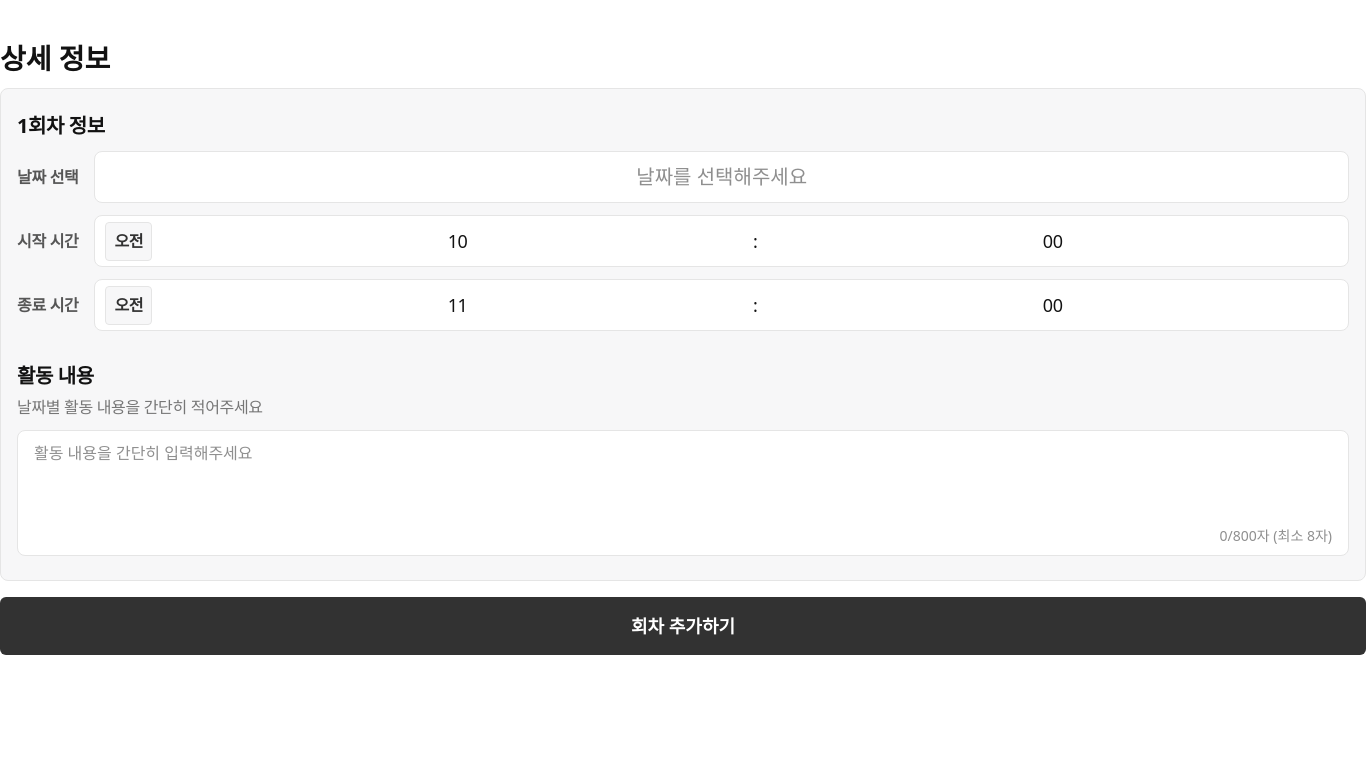
it: DetailInfo 통합 테스트 › 회차 정보 표시 › 세션별로 회차 정보가 올바르게 표시되어야 한다
Click the button with aria-label "회차 추가하기 버튼".
click(683, 626)  # box [0,597,1365,655]
(page scrolled)
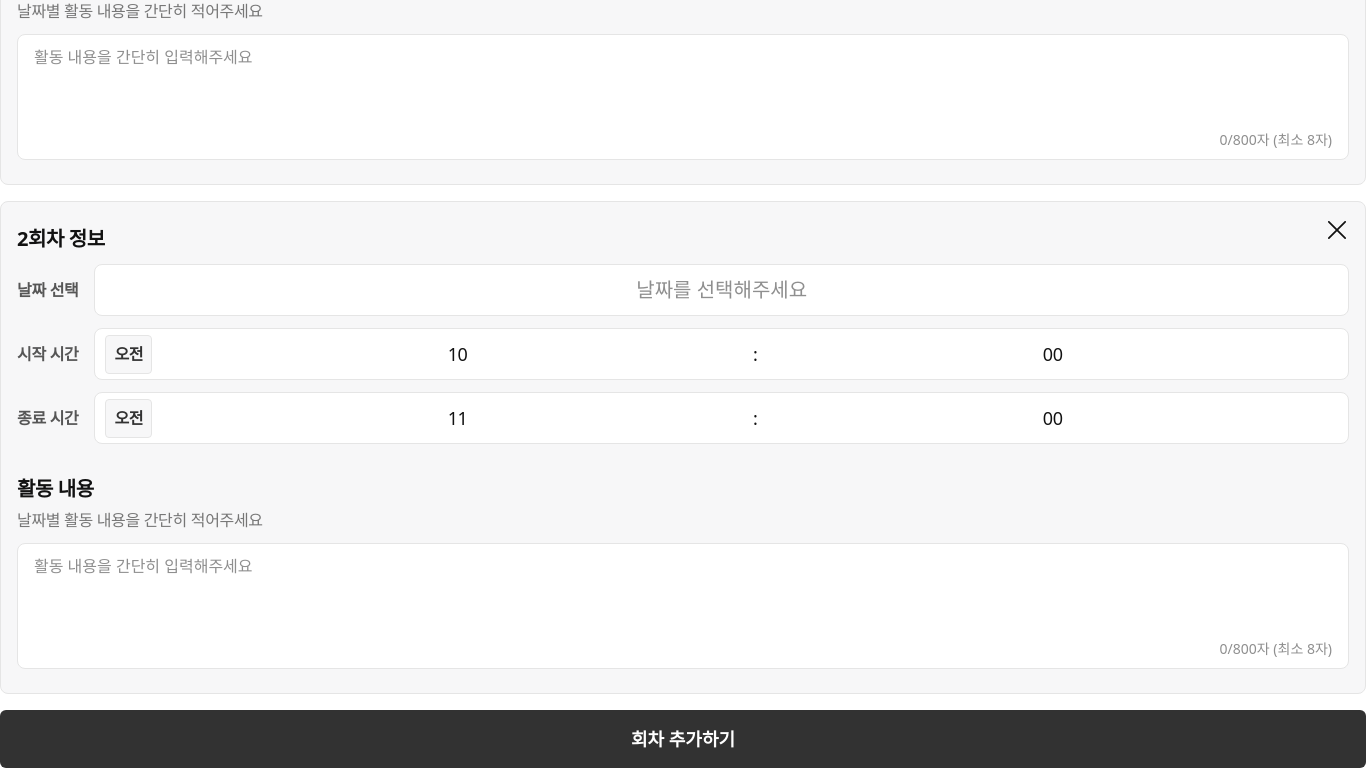
Click the button with aria-label "회차 추가하기 버튼".
click(683, 739)  # box [0,710,1365,767]
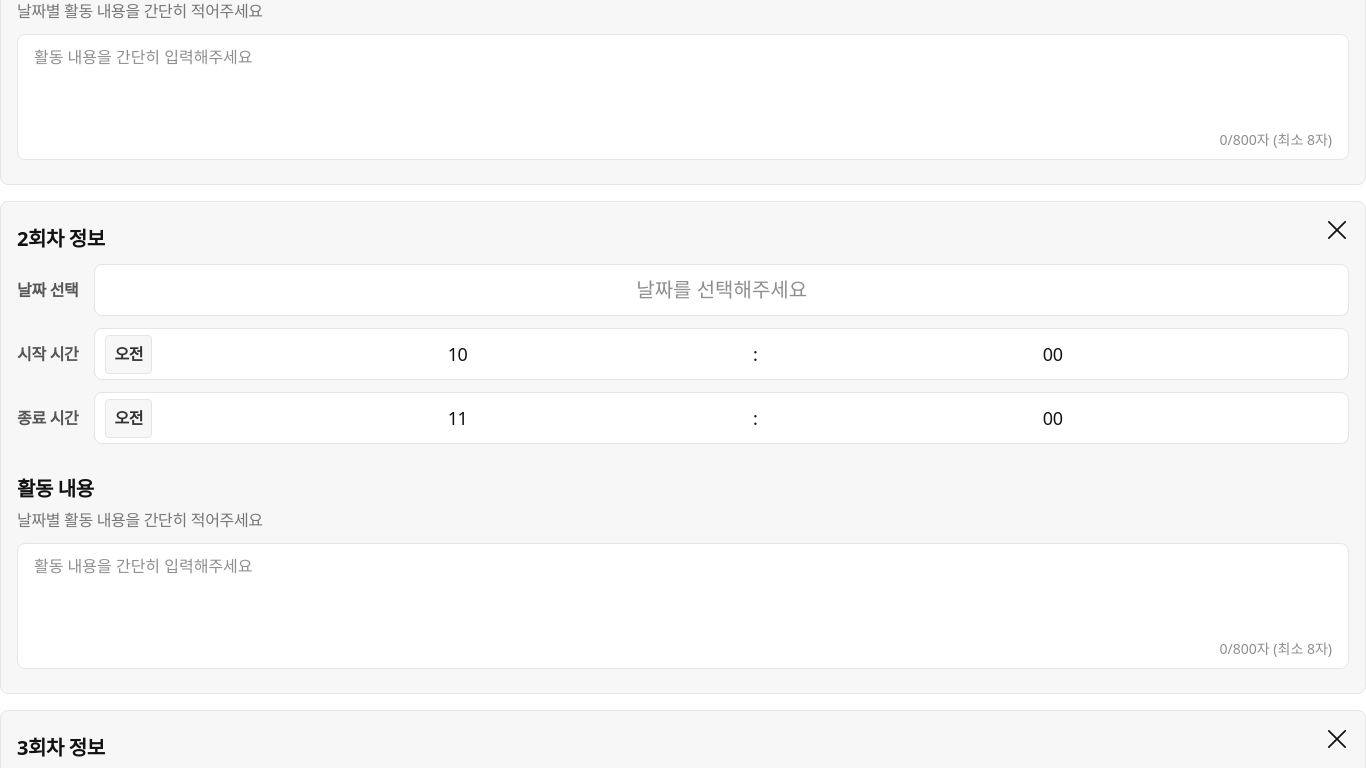
Result: the heading "2회차 정보" is shown at [17,225,105,252]
Result: the heading "3회차 정보" is shown at [17,734,105,761]
